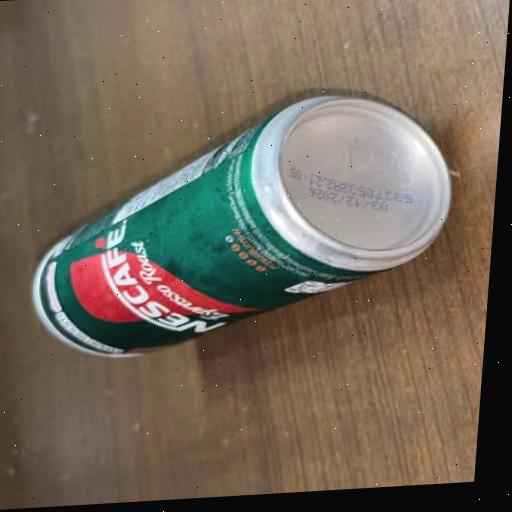bottle: (7, 57, 478, 389)
